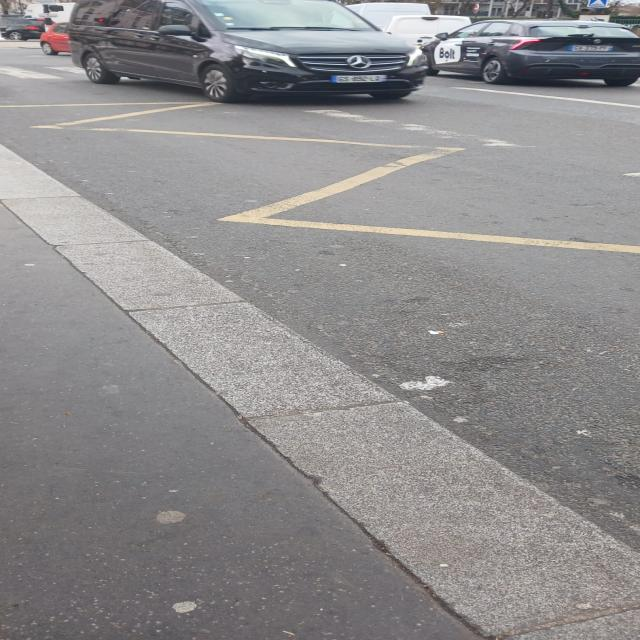Autre: (329, 68, 414, 88), (560, 45, 633, 57)
